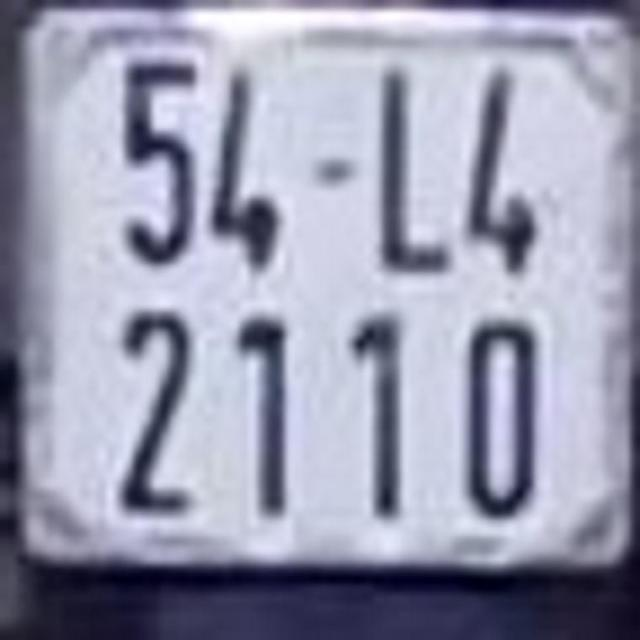0: (462, 306, 542, 525)
1: (227, 305, 304, 522), (344, 306, 419, 525)
2: (116, 297, 199, 520)
4: (459, 60, 539, 279), (210, 55, 282, 276)
5: (123, 56, 206, 266)
L: (366, 63, 455, 276)
